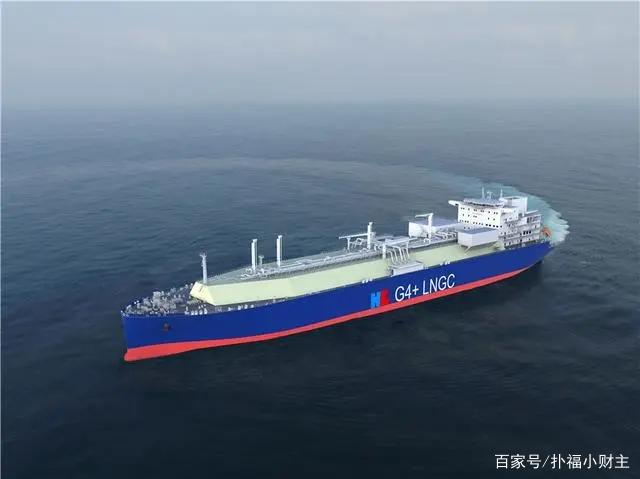Cargoship: (110, 180, 555, 364)
